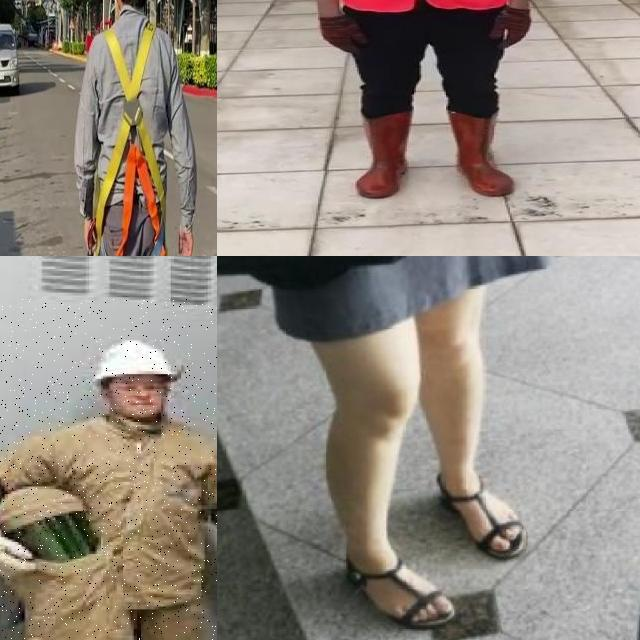Harness: (96, 23, 165, 234), (116, 144, 167, 256)
Sandals: (308, 517, 468, 638), (430, 445, 568, 580)
boots: (448, 110, 518, 196), (356, 112, 416, 198)
hand_glove: (0, 536, 39, 579)
head_helmet: (92, 337, 183, 397)
person: (0, 327, 217, 640), (304, 0, 542, 207)
